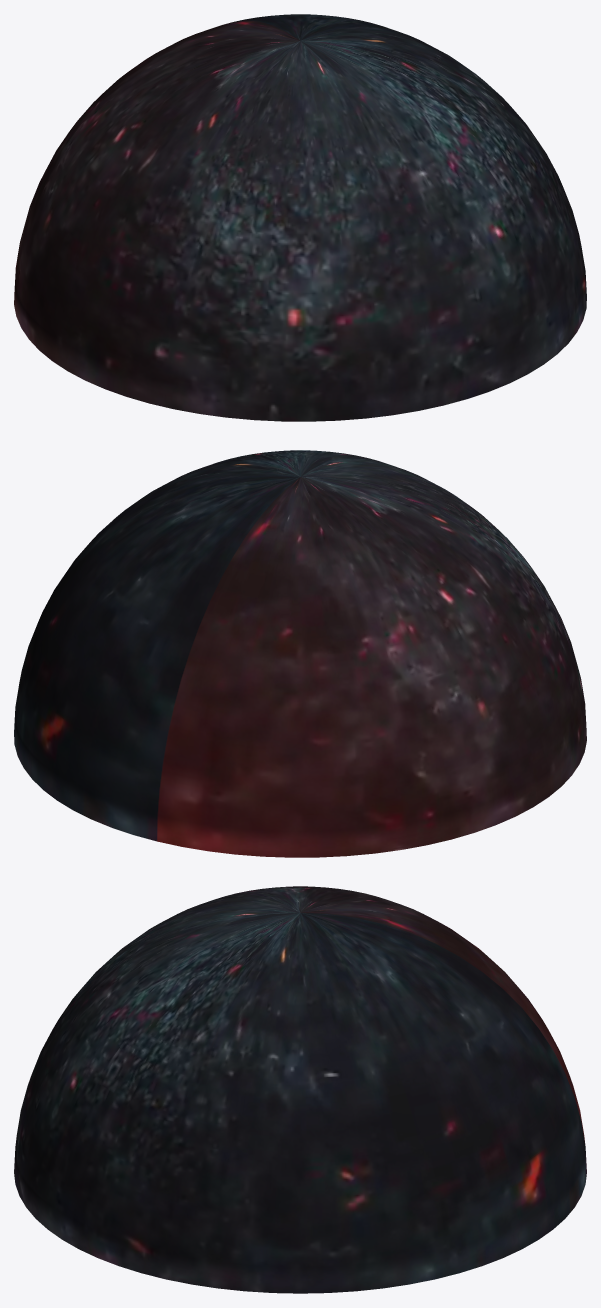
The model's file is dome.fbx.
3 renders of one model, top to bottom at view 1: azimuth 30°, elevation 25°; view 2: azimuth 150°, elevation 25°; view 3: azimuth 270°, elevation 25°, orthographic.
Visible parts, largest first — view 1: Sphere001; view 2: Sphere001; view 3: Sphere001.
Boxes of the visible parts, bbox=[...] form: Sphere001: bbox=[14, 14, 586, 421]; Sphere001: bbox=[14, 450, 586, 857]; Sphere001: bbox=[14, 886, 586, 1293].
Size of the model in its own units: 400 by 200 by 400.
1 material, 1 textured.
